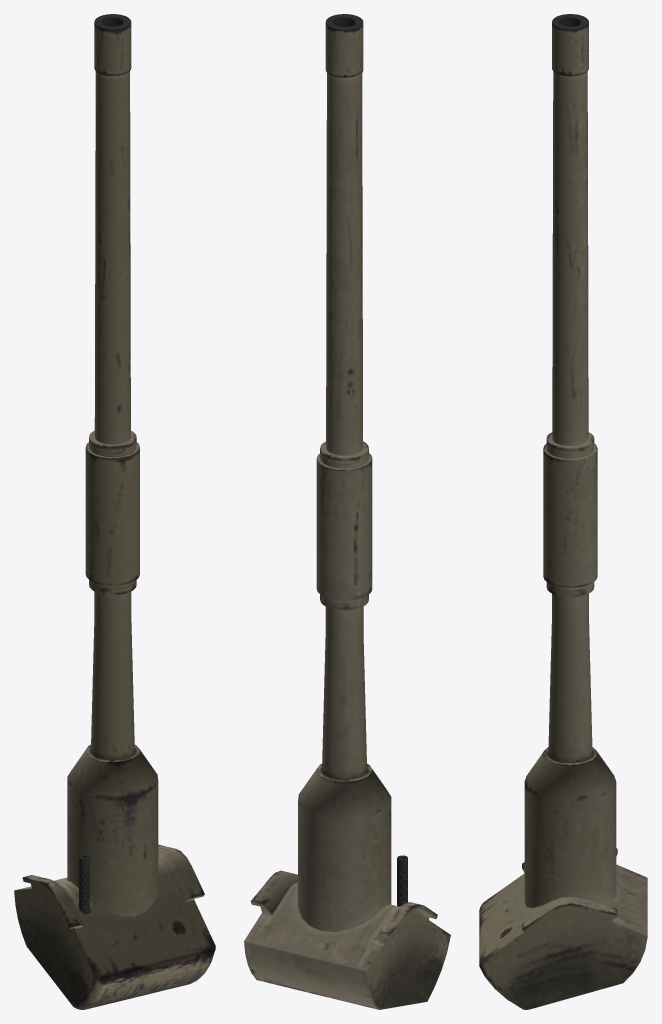
File: Gun_05.glb
3 renders of one model, left to right at view 1: azimuth 30°, elevation 25°; view 2: azimuth 150°, elevation 25°; view 3: azimuth 270°, elevation 25°, orthographic. The views are drawn at different scales.
Parts seen in each view (by area): view 1: set_0_group_0; view 2: set_0_group_0; view 3: set_0_group_0.
Part boxes in pixels (bbox=[...]): set_0_group_0: bbox=[14, 14, 215, 1009]; set_0_group_0: bbox=[244, 14, 450, 1009]; set_0_group_0: bbox=[479, 14, 647, 1009].
Bounding box in the file's own units: 0.6654 × 4.52 × 0.7185.
1 material, 1 textured.
